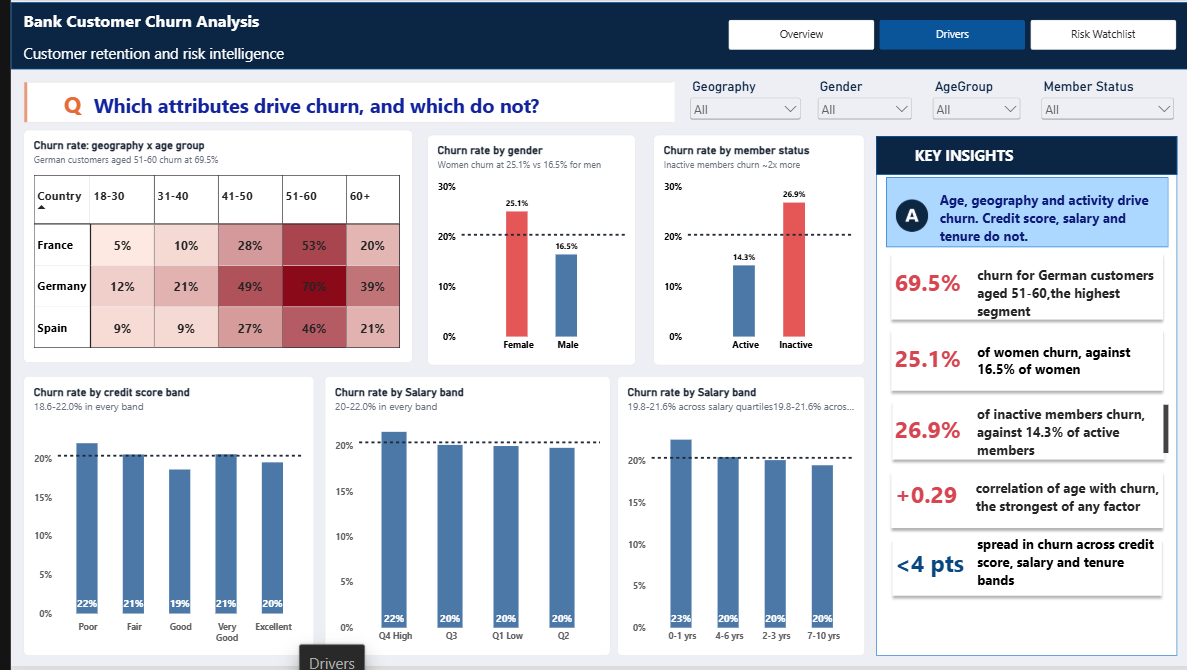

The page's visual inventory and layout, read from the dashboard file:
{"tool":"powerbi","page":{"name":"Drivers","canvas":[1920,1080],"ordinal":1},"visuals":[{"type":"shape","box":[0,2.1,1920.4,109.1],"z":0},{"type":"textbox","box":[20.6,14.4,512.5,94.7],"z":1000},{"type":"pageNavigator","box":[1165,30.9,728.6,49.4],"z":2000},{"type":"shape","box":[20.3,125.9,1063.7,77.1],"z":3000},{"type":"textbox","box":[48.7,142.1,1035.3,60.9],"z":4000},{"type":"slicer","fields":{"Values":["bank_churn_clean.Geography"]},"box":[1098.2,125.9,188.8,77.1],"z":5000},{"type":"slicer","fields":{"Values":["bank_churn_clean.Gender"]},"box":[1305.3,125.9,162.4,77.1],"z":6000},{"type":"slicer","fields":{"Values":["bank_churn_clean.AgeGroup"]},"box":[1492.1,125.9,152.3,77.1],"z":7000},{"type":"slicer","fields":{"Values":["bank_churn_clean.Member Status"]},"box":[1668.7,125.9,225.3,77.1],"z":8000},{"type":"pivotTable","title":"Churn rate: geography x age group","fields":{"Columns":["bank_churn_clean.AgeGroup"],"Rows":["bank_churn_clean.Geography"],"Values":["bank_churn_clean.Churn Rate"]},"box":[20,210,632,378],"z":9000},{"type":"clusteredColumnChart","title":"Churn rate by gender","fields":{"Category":["bank_churn_clean.Gender"],"Y":["bank_churn_clean.Churn Rate"]},"box":[676,218,338,374],"z":10000},{"type":"clusteredColumnChart","title":"Churn rate by credit score band","fields":{"Category":["bank_churn_clean.CreditBand"],"Y":["bank_churn_clean.Churn Rate"]},"box":[20,610,472,454],"z":11000},{"type":"shape","box":[1404.8,219.2,489.2,844.5],"z":12000},{"type":"shape","box":[1404.8,219.2,489.2,62.9],"z":13000},{"type":"textbox","box":[1467.7,233.5,284.2,48.7],"z":14000},{"type":"shape","box":[1421,286.2,458.8,113.7],"z":15000},{"type":"image","box":[1436,308,56,80],"z":16000},{"type":"textbox","box":[1508.3,308.6,357.3,129.9],"z":17000},{"type":"shape","box":[1421,399.9,458.8,125.9],"z":18000},{"type":"shape","box":[1421,523.7,458.8,117.7],"z":19000},{"type":"shape","box":[1424,640,458.8,113.7],"z":20000},{"type":"shape","box":[1421,755.2,458.8,109.6],"z":21000},{"type":"textbox","box":[1435.2,430.4,119.8,62.9],"z":22000},{"type":"textbox","box":[1569.2,430.4,310.6,93.4],"z":23000},{"type":"textbox","box":[1435.2,554.2,134,87.3],"z":24000},{"type":"textbox","box":[369.5,257.8,30.5,142.1],"z":25000},{"type":"textbox","box":[1569.2,554.2,296.4,87.3],"z":26000},{"type":"textbox","box":[1435.2,669.9,119.8,69],"z":27000},{"type":"textbox","box":[1570,656,310,82],"z":28000},{"type":"textbox","box":[1445.4,846.5,144.1,142.1],"z":29000},{"type":"textbox","box":[1435.2,775.5,119.8,71.1],"z":30000},{"type":"textbox","box":[1556,776,310,88],"z":31000},{"type":"shape","box":[1423.1,864.8,454.7,109.6],"z":32000},{"type":"textbox","box":[1435.2,887.1,154.3,71.1],"z":33000},{"type":"textbox","box":[1570,866,296,108],"z":34000},{"type":"clusteredColumnChart","title":"Churn rate by member status","fields":{"Category":["bank_churn_clean.Member Status"],"Y":["bank_churn_clean.Churn Rate"]},"box":[1044,218,342,374],"z":35000},{"type":"clusteredColumnChart","title":"Churn rate by Salary band","fields":{"Category":["bank_churn_clean.SalaryBand"],"Y":["bank_churn_clean.Churn Rate"]},"box":[510,610,464,454],"z":36000},{"type":"clusteredColumnChart","title":"Churn rate by Salary band","fields":{"Category":["bank_churn_clean.TenureBand"],"Y":["bank_churn_clean.Churn Rate"]},"box":[984,610,402,454],"z":37000}]}

Visuals, with their boxes in screenshot pixels (x1, y1, x2, y2), scaled from the page's 1920x1080 canvas onto the 1187x670 screenshot:
shape: (x1=0, y1=1, x2=1186, y2=69)
textbox: (x1=13, y1=9, x2=330, y2=68)
pageNavigator: (x1=720, y1=19, x2=1171, y2=50)
shape: (x1=13, y1=78, x2=670, y2=126)
textbox: (x1=30, y1=88, x2=670, y2=126)
slicer - bank_churn_clean.Geography: (x1=679, y1=78, x2=796, y2=126)
slicer - bank_churn_clean.Gender: (x1=807, y1=78, x2=907, y2=126)
slicer - bank_churn_clean.AgeGroup: (x1=922, y1=78, x2=1017, y2=126)
slicer - bank_churn_clean.Member Status: (x1=1032, y1=78, x2=1171, y2=126)
"Churn rate: geography x age group" pivotTable: (x1=12, y1=130, x2=403, y2=365)
"Churn rate by gender" clusteredColumnChart: (x1=418, y1=135, x2=627, y2=367)
"Churn rate by credit score band" clusteredColumnChart: (x1=12, y1=378, x2=304, y2=660)
shape: (x1=868, y1=136, x2=1171, y2=660)
shape: (x1=868, y1=136, x2=1171, y2=175)
textbox: (x1=907, y1=145, x2=1083, y2=175)
shape: (x1=879, y1=178, x2=1162, y2=248)
image: (x1=888, y1=191, x2=922, y2=241)
textbox: (x1=932, y1=191, x2=1153, y2=272)
shape: (x1=879, y1=248, x2=1162, y2=326)
shape: (x1=879, y1=325, x2=1162, y2=398)
shape: (x1=880, y1=397, x2=1164, y2=468)
shape: (x1=879, y1=469, x2=1162, y2=536)
textbox: (x1=887, y1=267, x2=961, y2=306)
textbox: (x1=970, y1=267, x2=1162, y2=325)
textbox: (x1=887, y1=344, x2=970, y2=398)
textbox: (x1=228, y1=160, x2=247, y2=248)
textbox: (x1=970, y1=344, x2=1153, y2=398)
textbox: (x1=887, y1=416, x2=961, y2=458)
textbox: (x1=971, y1=407, x2=1162, y2=458)
textbox: (x1=894, y1=525, x2=983, y2=613)
textbox: (x1=887, y1=481, x2=961, y2=525)
textbox: (x1=962, y1=481, x2=1154, y2=536)
shape: (x1=880, y1=536, x2=1161, y2=604)
textbox: (x1=887, y1=550, x2=983, y2=594)
textbox: (x1=971, y1=537, x2=1154, y2=604)
"Churn rate by member status" clusteredColumnChart: (x1=645, y1=135, x2=857, y2=367)
"Churn rate by Salary band" clusteredColumnChart: (x1=315, y1=378, x2=602, y2=660)
"Churn rate by Salary band" clusteredColumnChart: (x1=608, y1=378, x2=857, y2=660)
